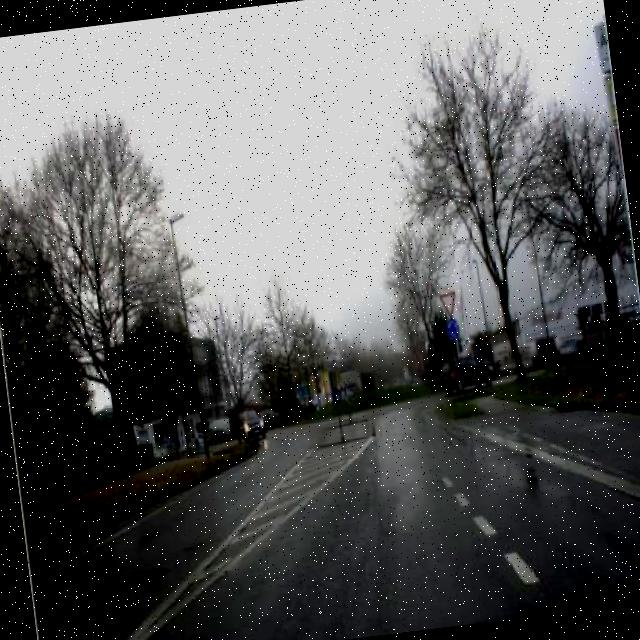Ustap pierwszenstwa: (437, 290, 459, 320)
